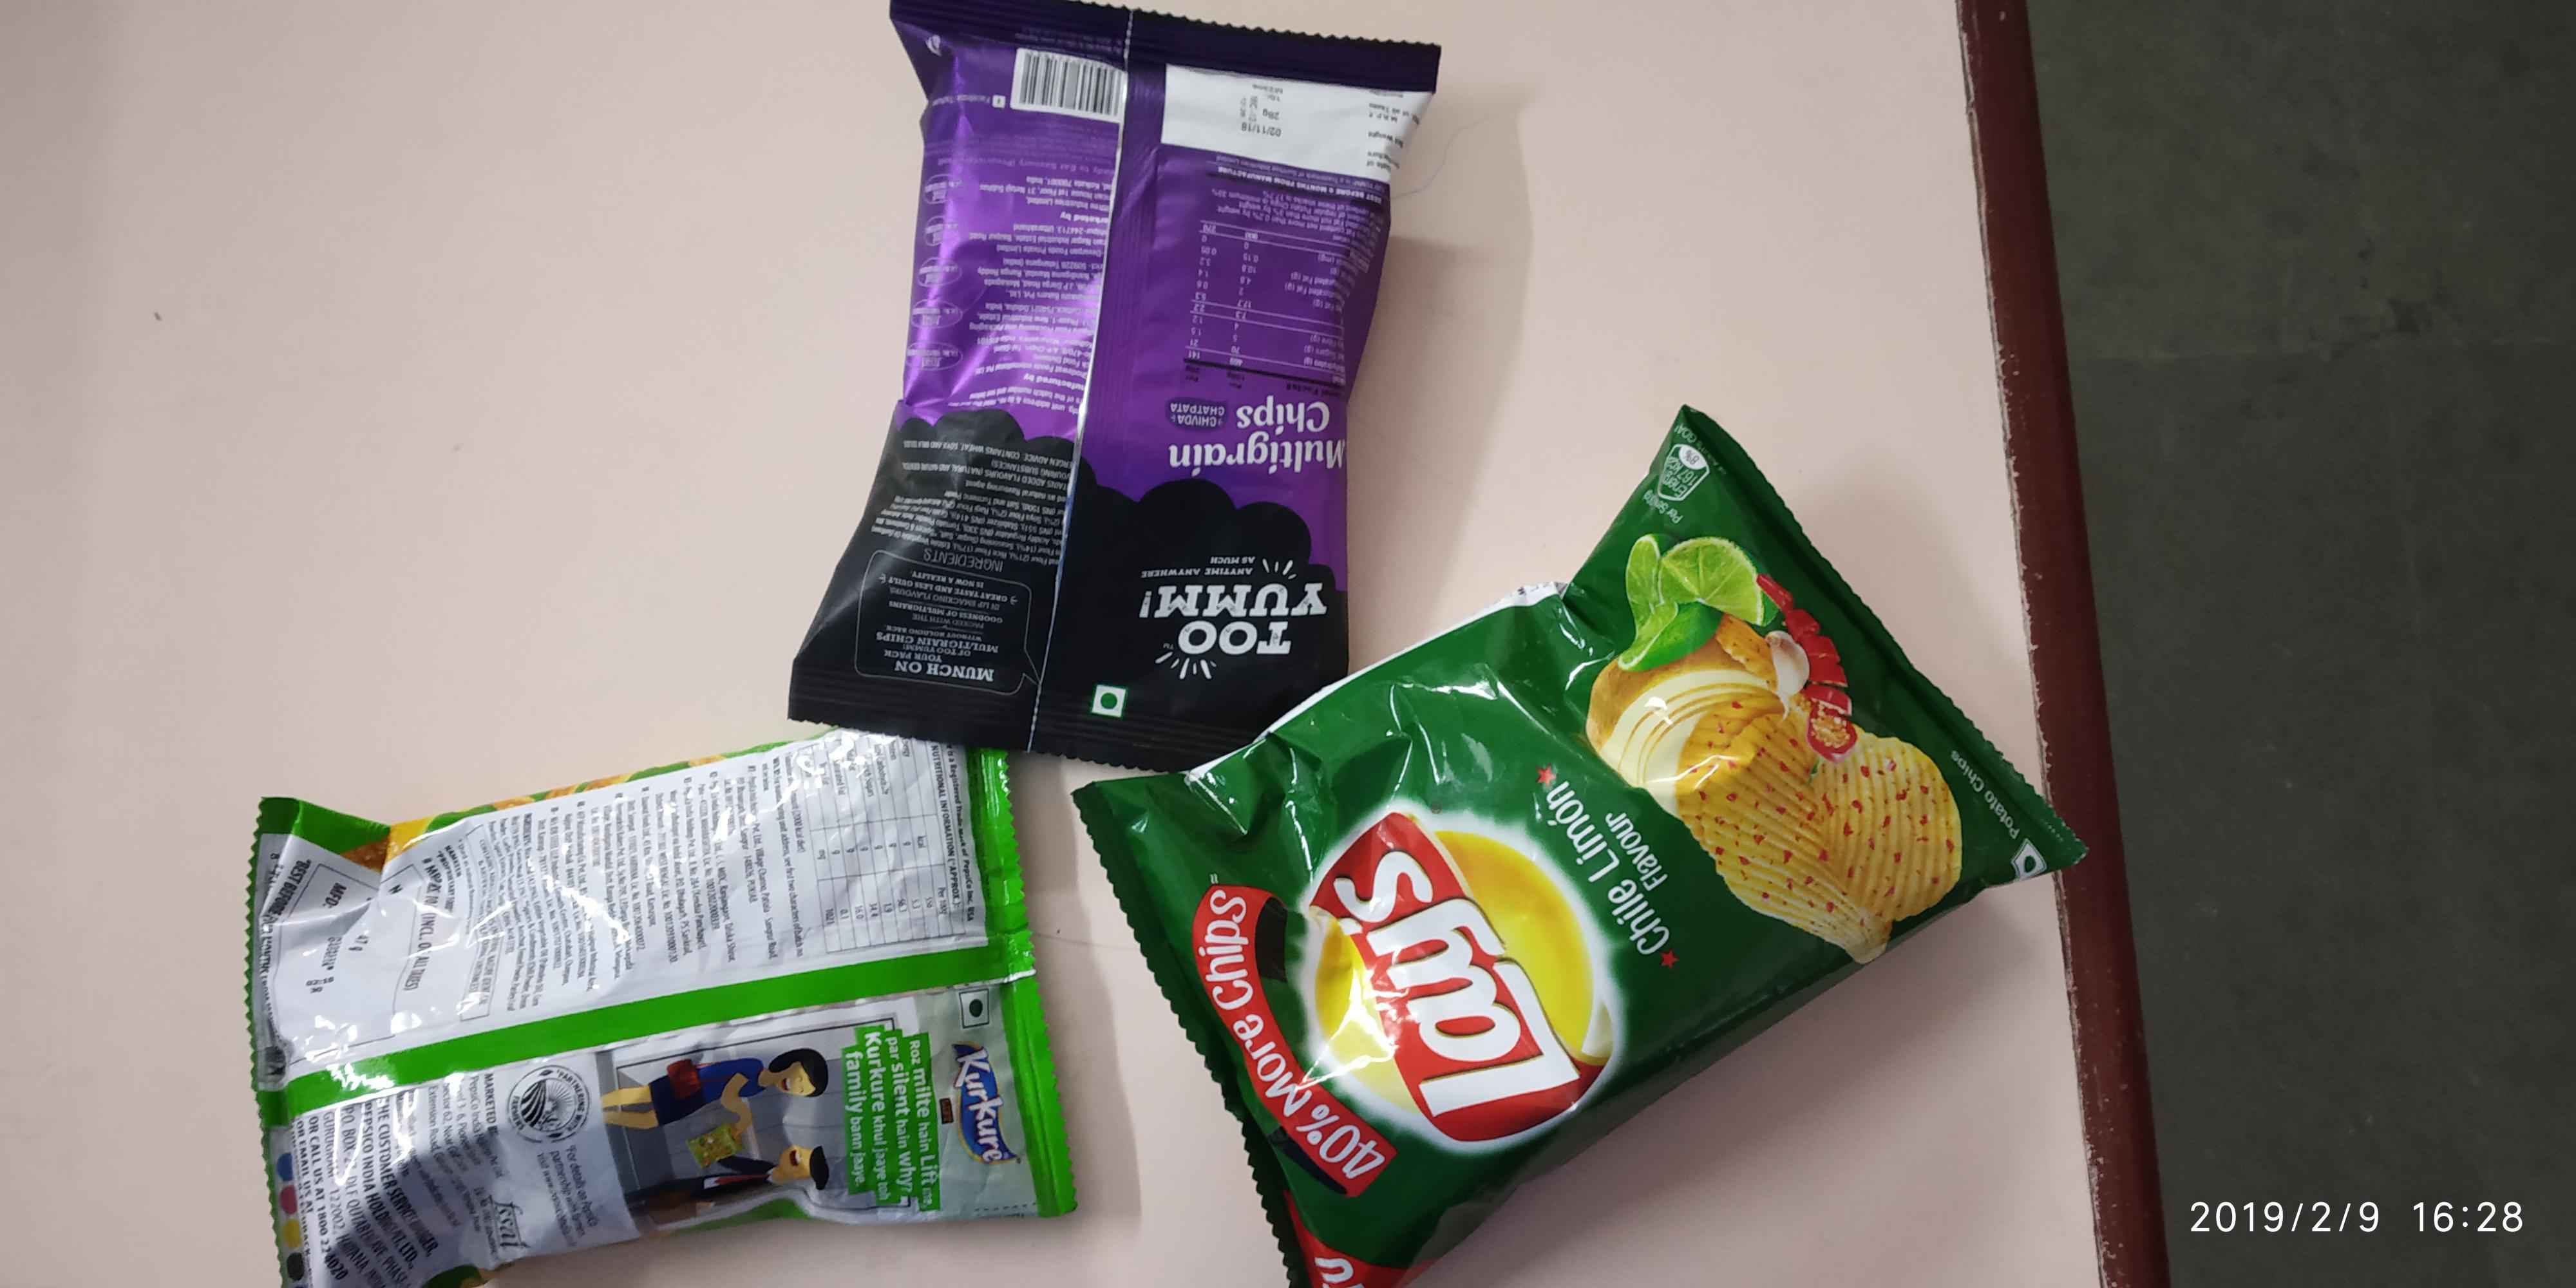Lays: (1267, 795, 1643, 1140)
kurkure: (941, 1050, 1027, 1181)
tooyumm: (1135, 572, 1345, 677)
